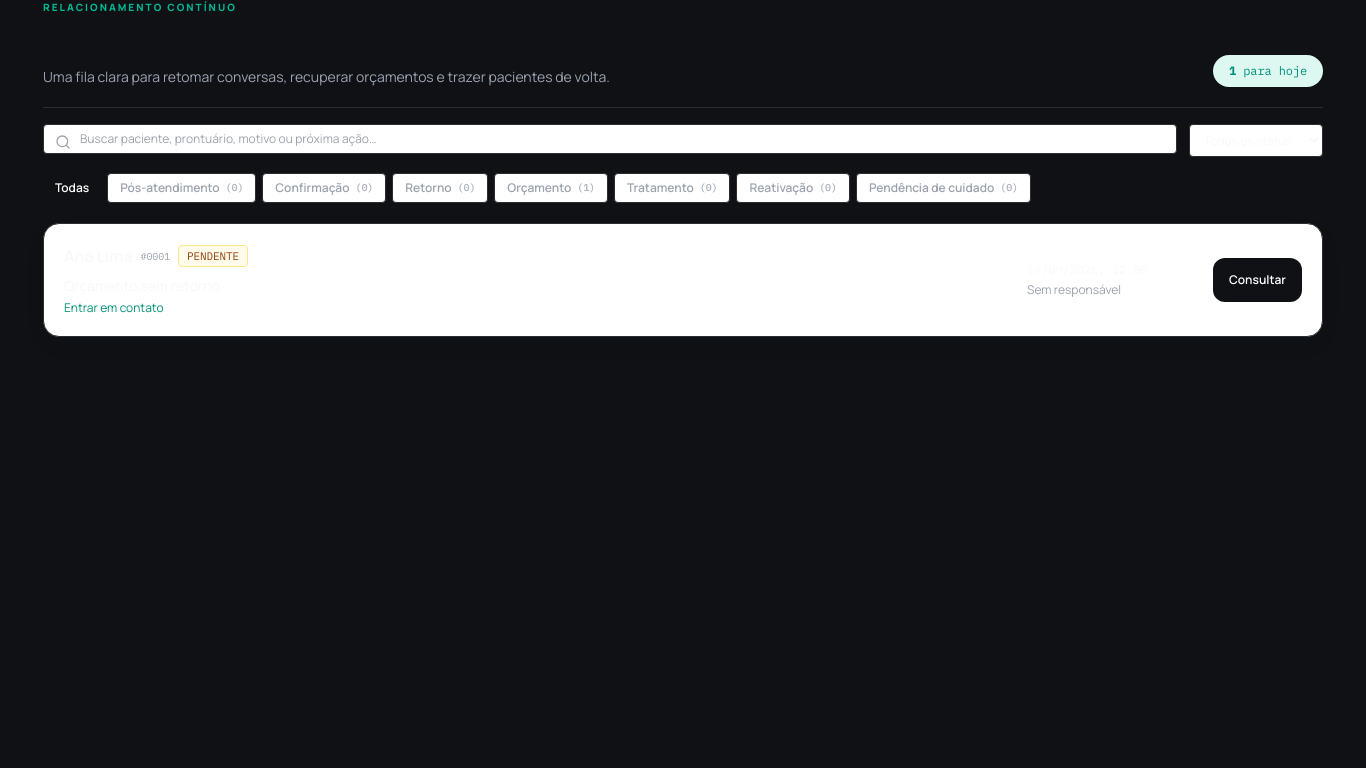
Scenario: FollowUpsPage › abre a fila apenas para consulta quando o acesso não pode executar ações
Click the button with aria-label "Consultar Ana Lima": (1258, 280) [1213,258,1302,302]
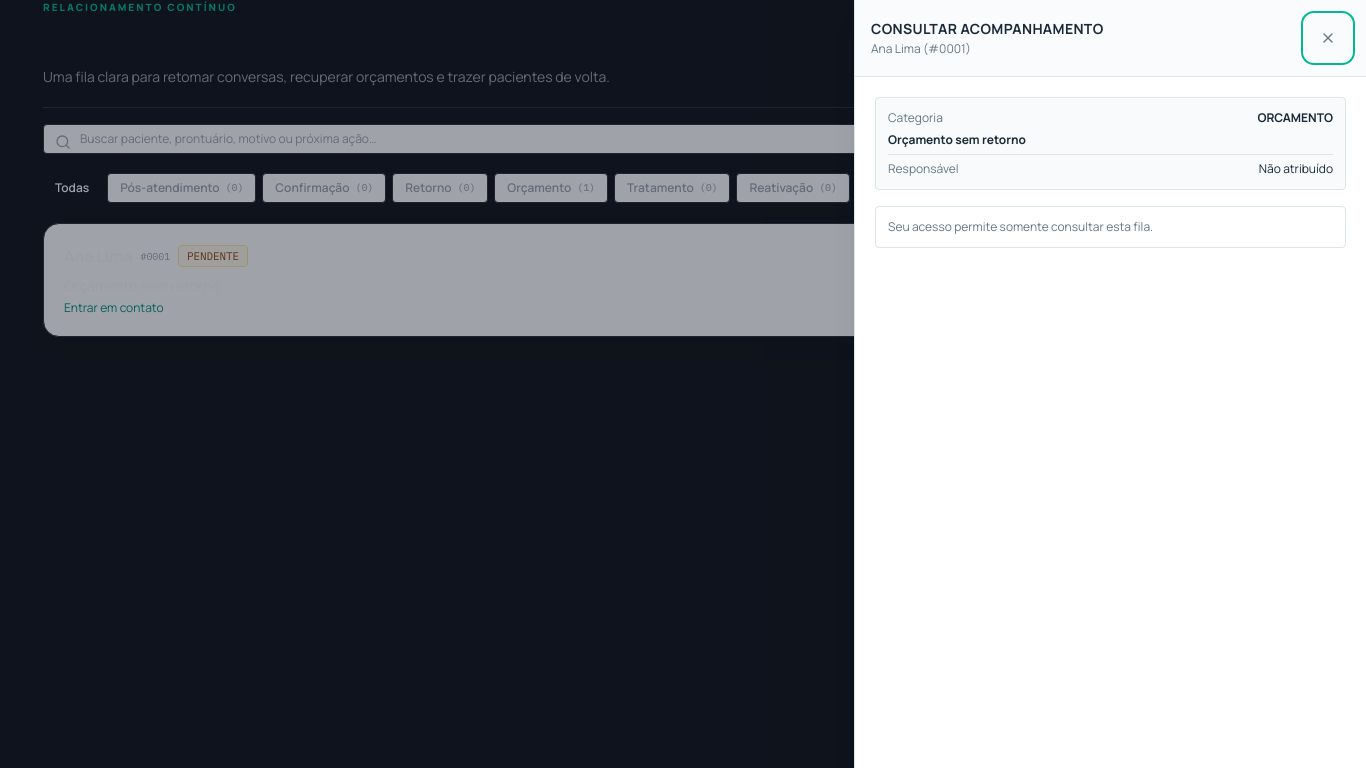
Expected: the text "Seu acesso permite somente consultar esta fila." is shown, [875,206,1346,248]
